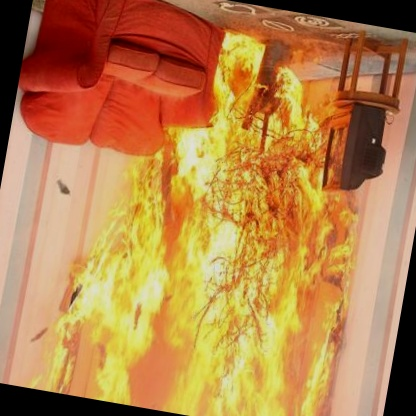fire: (54, 168, 354, 416)
